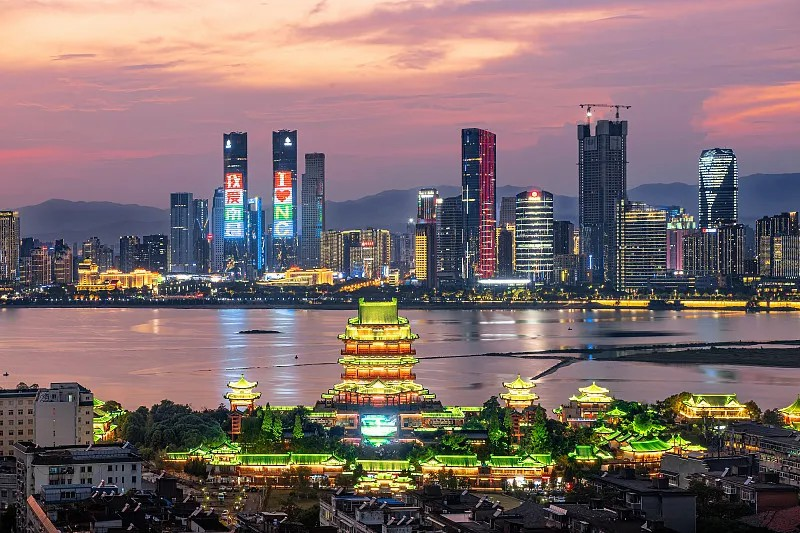Teng: (322, 297, 438, 405)
